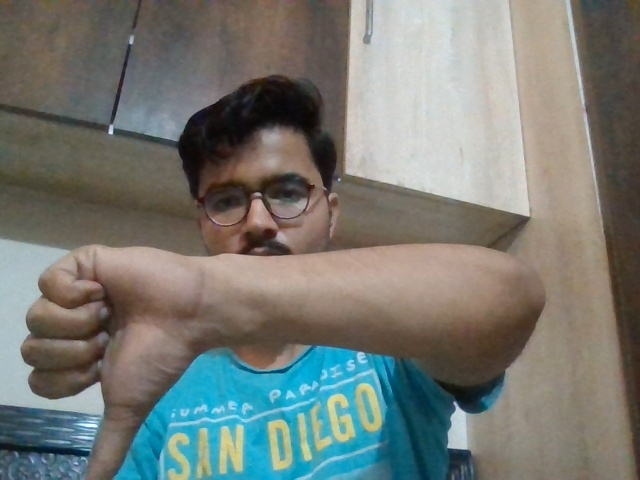no: (20, 226, 222, 480)
